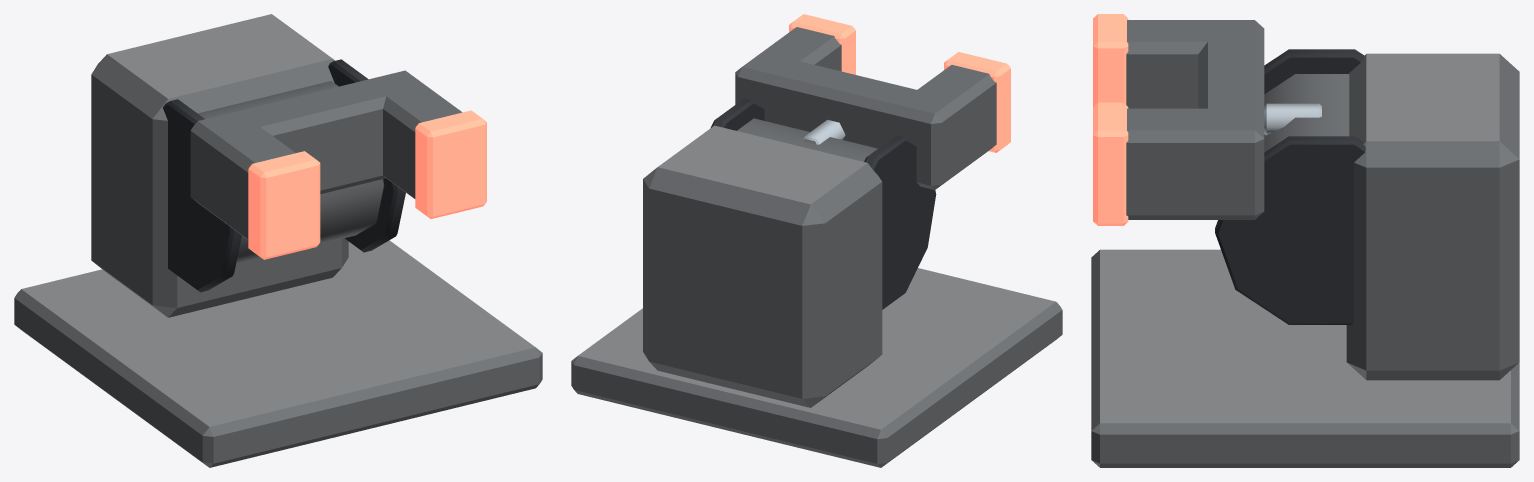
File: R4X_MagneticGrapple_LOD1.glb
The picture shows the model from 3 angles, left to right: view 1: azimuth 30°, elevation 25°; view 2: azimuth 150°, elevation 25°; view 3: azimuth 270°, elevation 25°; orthographic projection. The views are drawn at different scales.
Visible parts, largest first — view 1: R4X_MagneticGrapple_LOD1; view 2: R4X_MagneticGrapple_LOD1; view 3: R4X_MagneticGrapple_LOD1.
Part boxes in pixels (x1,y1,x2,y2): R4X_MagneticGrapple_LOD1: (14, 14, 542, 467); R4X_MagneticGrapple_LOD1: (571, 14, 1062, 467); R4X_MagneticGrapple_LOD1: (1091, 14, 1519, 467).
Size of the model in its own units: 0.52 by 0.414 by 0.52.
